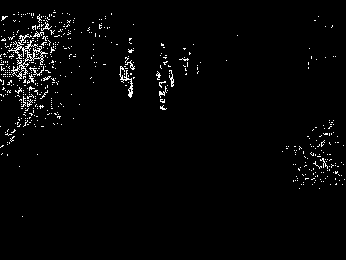person: (154, 47, 175, 110), (117, 43, 137, 99)
